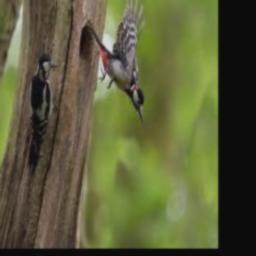Woodpecker: (91, 0, 145, 120), (29, 53, 59, 173)
